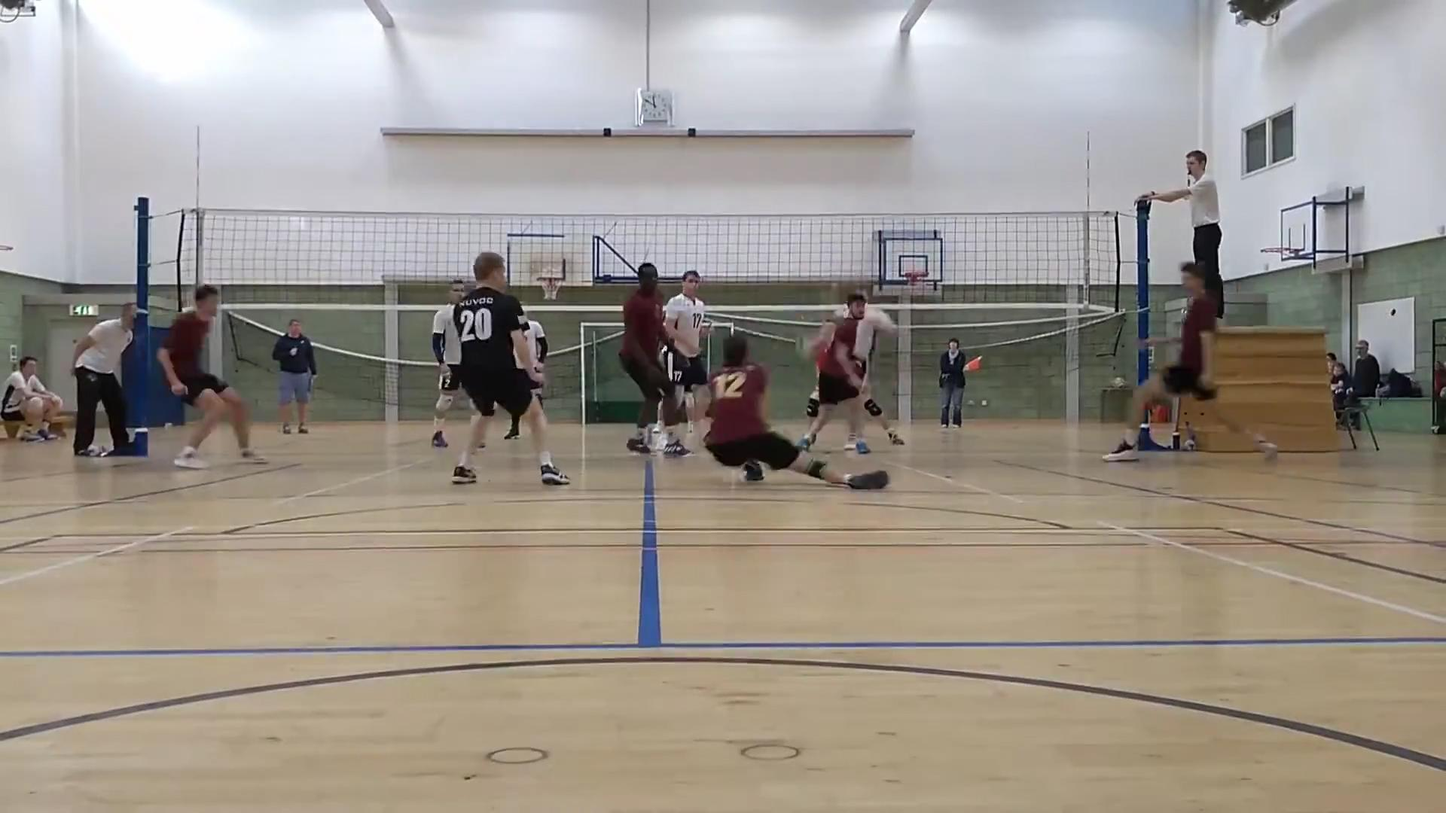Player: (451, 252, 569, 485), (1103, 262, 1216, 461), (157, 285, 265, 468), (619, 263, 690, 456), (798, 292, 867, 449), (72, 303, 136, 456), (664, 270, 708, 432), (855, 304, 905, 445), (856, 305, 904, 445), (432, 279, 471, 447), (527, 318, 548, 375)
Receive: (697, 334, 898, 493)
